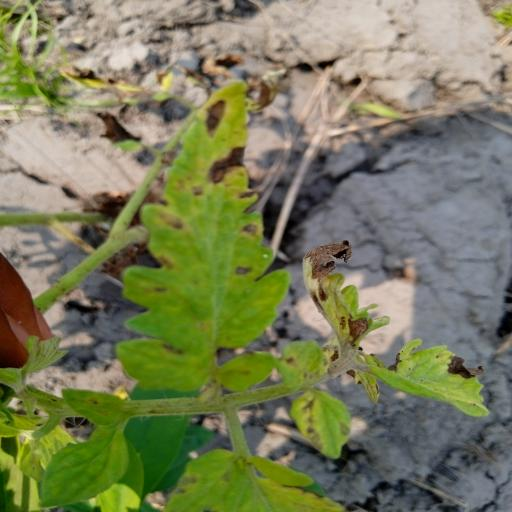Tomato_Brown_Spots: (112, 76, 302, 409)
